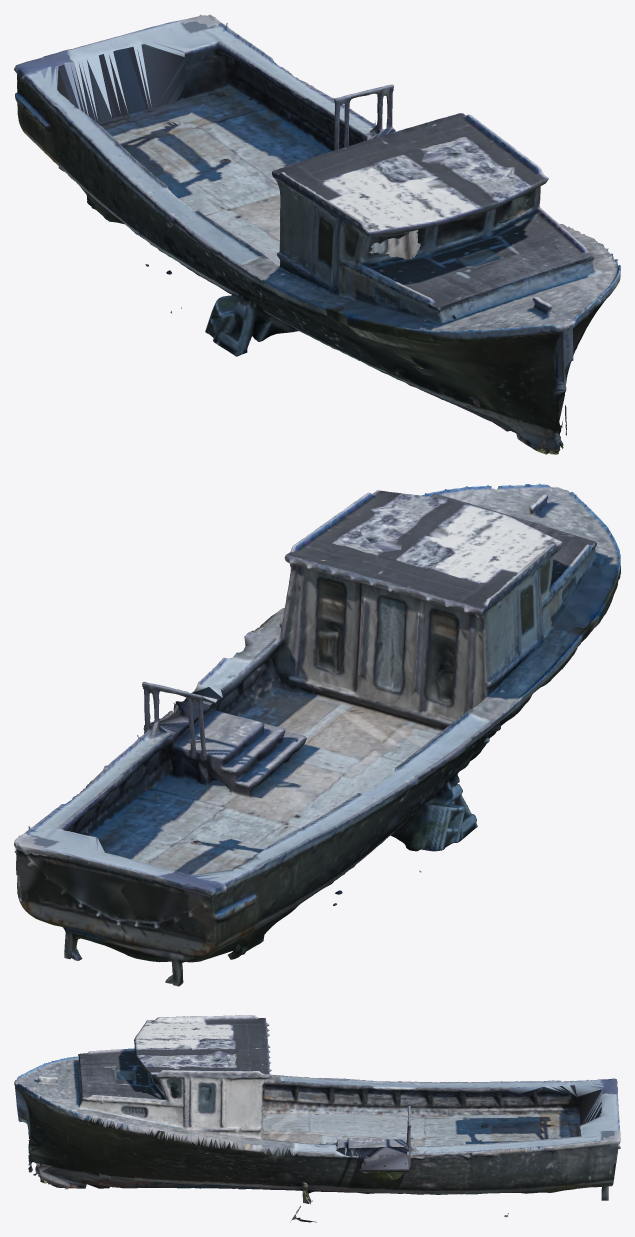
The model's file is cape-islander.glb.
3 renders of one model, top to bottom at view 1: azimuth 30°, elevation 25°; view 2: azimuth 150°, elevation 25°; view 3: azimuth 270°, elevation 25°, orthographic. The views are drawn at different scales.
Visible parts, largest first — view 1: Object_2; view 2: Object_2; view 3: Object_2.
Boxes of the visible parts, x1=… form: Object_2: x1=14, y1=14, x2=620, y2=454; Object_2: x1=14, y1=483, x2=620, y2=986; Object_2: x1=14, y1=1015, x2=620, y2=1222.
Size of the model in its own units: 4.28 by 3.31 by 12.95.
1 material, 1 textured.
